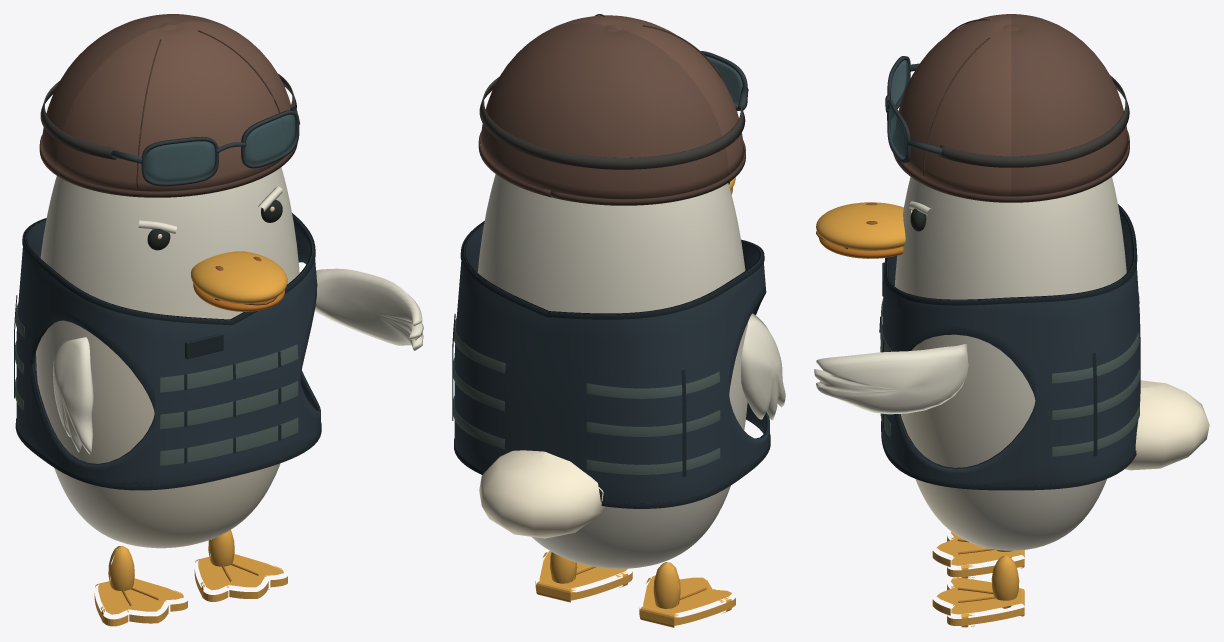
File: fitted-species-goose-aim-character.glb
3 views of the same model, side by side, from view 1: azimuth 30°, elevation 25°; view 2: azimuth 150°, elevation 25°; view 3: azimuth 270°, elevation 25° (orthographic). The views are drawn at different scales.
Visible parts, largest first — view 1: goose_aim_after_goose_vest_refined_mesh, goose_aim_after_goose_torso_mesh, goose_aim_after_goose_face_aviator_cap_mesh, goose_aim_after_goose_face_raised_goggles_mesh, goose_aim_after_goose_rightArm_mesh, goose_aim_after_goose_beak_mesh, goose_aim_after_goose_leftArm_mesh, goose_aim_after_goose_leftFoot_mesh, goose_aim_after_goose_rightFoot_mesh; view 2: goose_aim_after_goose_vest_refined_mesh, goose_aim_after_goose_face_aviator_cap_mesh, goose_aim_after_goose_torso_mesh, goose_aim_after_goose_tail_mesh, goose_aim_after_goose_face_raised_goggles_mesh, goose_aim_after_goose_leftFoot_mesh, goose_aim_after_goose_leftArm_mesh, goose_aim_after_goose_rightFoot_mesh; view 3: goose_aim_after_goose_torso_mesh, goose_aim_after_goose_vest_refined_mesh, goose_aim_after_goose_face_aviator_cap_mesh, goose_aim_after_goose_rightArm_mesh, goose_aim_after_goose_tail_mesh, goose_aim_after_goose_face_raised_goggles_mesh, goose_aim_after_goose_beak_mesh, goose_aim_after_goose_rightFoot_mesh, goose_aim_after_goose_leftFoot_mesh.
Boxes of the visible parts, bbox=[...] form: goose_aim_after_goose_vest_refined_mesh: bbox=[14, 213, 321, 490]; goose_aim_after_goose_torso_mesh: bbox=[36, 167, 299, 548]; goose_aim_after_goose_face_aviator_cap_mesh: bbox=[39, 14, 297, 197]; goose_aim_after_goose_face_raised_goggles_mesh: bbox=[40, 73, 299, 186]; goose_aim_after_goose_rightArm_mesh: bbox=[314, 268, 423, 350]; goose_aim_after_goose_beak_mesh: bbox=[190, 251, 287, 311]; goose_aim_after_goose_leftArm_mesh: bbox=[53, 337, 93, 454]; goose_aim_after_goose_leftFoot_mesh: bbox=[94, 545, 187, 626]; goose_aim_after_goose_rightFoot_mesh: bbox=[194, 530, 287, 601]; goose_aim_after_goose_vest_refined_mesh: bbox=[452, 221, 770, 508]; goose_aim_after_goose_face_aviator_cap_mesh: bbox=[478, 14, 745, 205]; goose_aim_after_goose_torso_mesh: bbox=[477, 174, 747, 568]; goose_aim_after_goose_tail_mesh: bbox=[479, 450, 607, 538]; goose_aim_after_goose_face_raised_goggles_mesh: bbox=[479, 51, 748, 169]; goose_aim_after_goose_leftFoot_mesh: bbox=[639, 562, 735, 627]; goose_aim_after_goose_leftArm_mesh: bbox=[741, 313, 785, 420]; goose_aim_after_goose_rightFoot_mesh: bbox=[535, 551, 632, 602]; goose_aim_after_goose_torso_mesh: bbox=[894, 177, 1126, 550]; goose_aim_after_goose_vest_refined_mesh: bbox=[879, 204, 1140, 490]; goose_aim_after_goose_face_aviator_cap_mesh: bbox=[893, 14, 1129, 202]; goose_aim_after_goose_rightArm_mesh: bbox=[814, 344, 968, 414]; goose_aim_after_goose_tail_mesh: bbox=[1124, 380, 1209, 470]; goose_aim_after_goose_face_raised_goggles_mesh: bbox=[885, 56, 1129, 167]; goose_aim_after_goose_beak_mesh: bbox=[816, 202, 905, 258]; goose_aim_after_goose_rightFoot_mesh: bbox=[932, 556, 1024, 627]; goose_aim_after_goose_leftFoot_mesh: bbox=[932, 532, 1024, 578].
Bounding box in the file's own units: 1.21 × 2.15 × 1.37.
